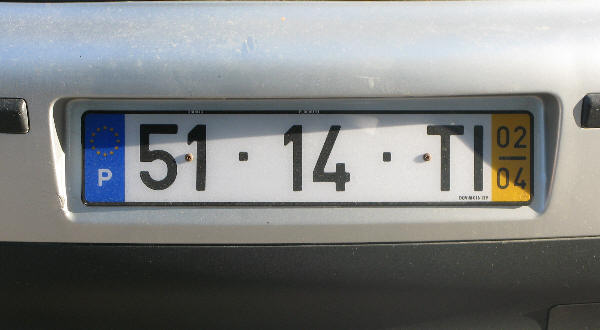license_plate: (80, 108, 534, 205)
